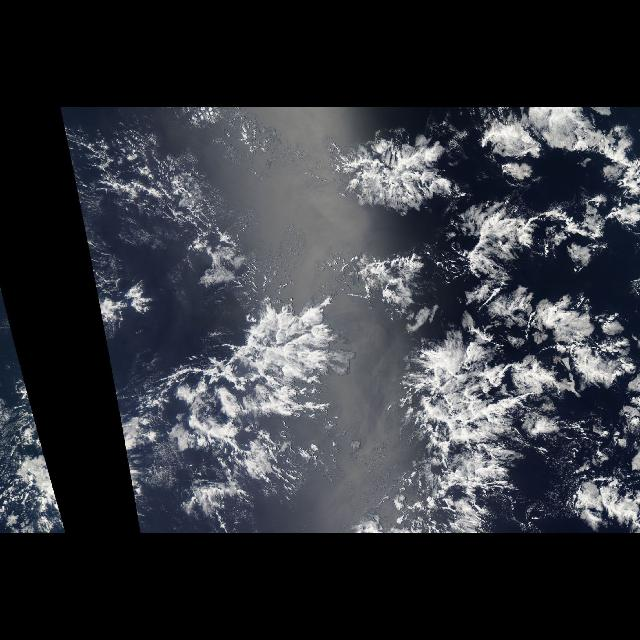Fish: (98, 289, 344, 531), (389, 335, 536, 533)
Flower: (322, 121, 640, 389)
